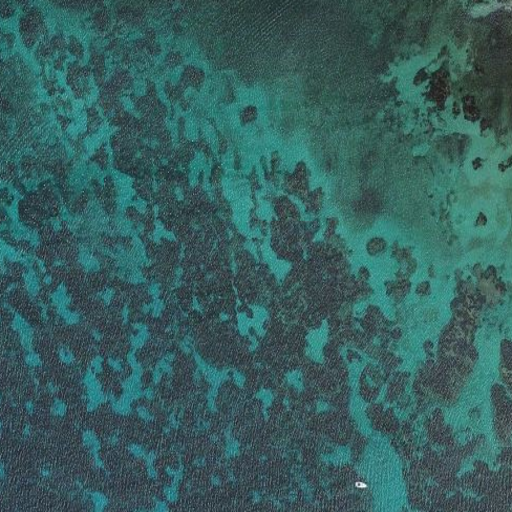ship: (352, 478, 370, 493)
